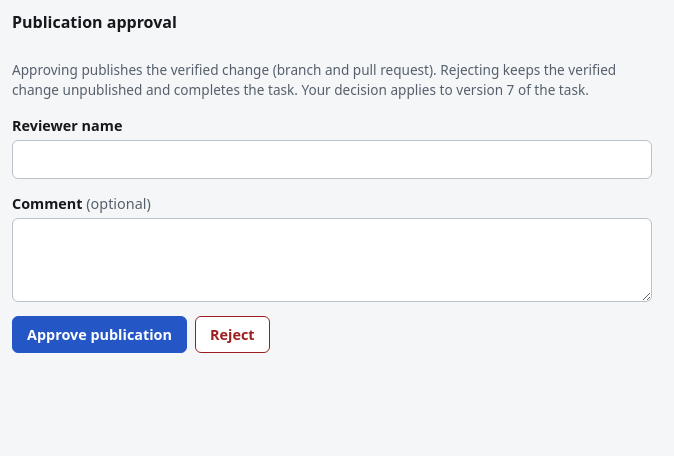
Test: ApprovalForm › sends the decision bound to the task version it shows (expected_version)
The image size is (674, 456).
Step 1. Type "Ada Lovelace" into the field labelled "Reviewer name" → [332, 159], box [12, 140, 652, 179]
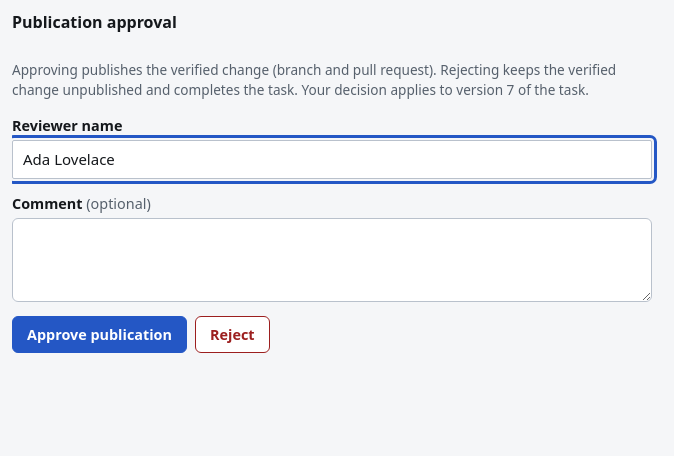
Step 2. Type "Diff and checks look right." into the text box labelled "Comment (optional)" → [332, 260], box [12, 218, 652, 302]
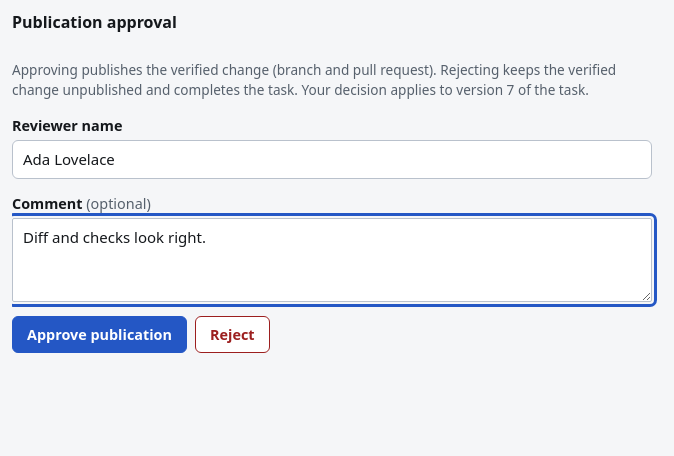
Step 3. Click the button "Approve publication" → [100, 335], box [12, 316, 187, 353]
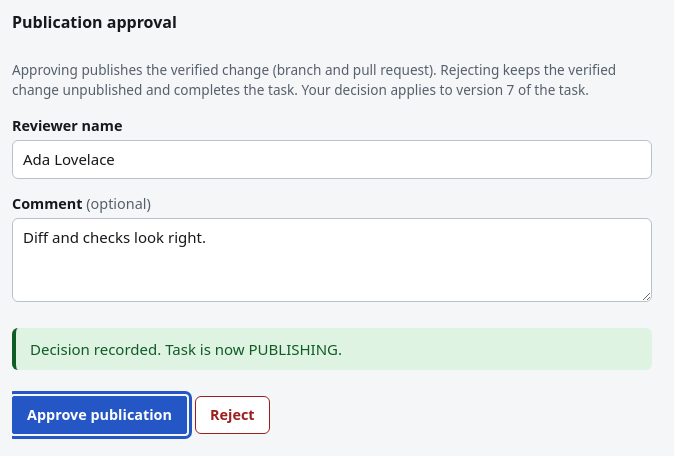
Check: the text "Decision recorded. Task is now PUBLISHING." is shown, box [12, 328, 652, 370]
